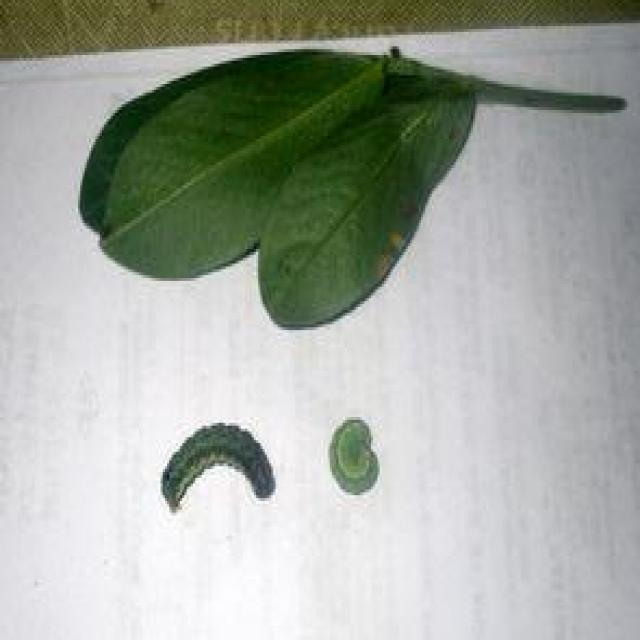BeetArmyWorm-Larva-: (137, 400, 285, 526), (302, 386, 395, 512)
